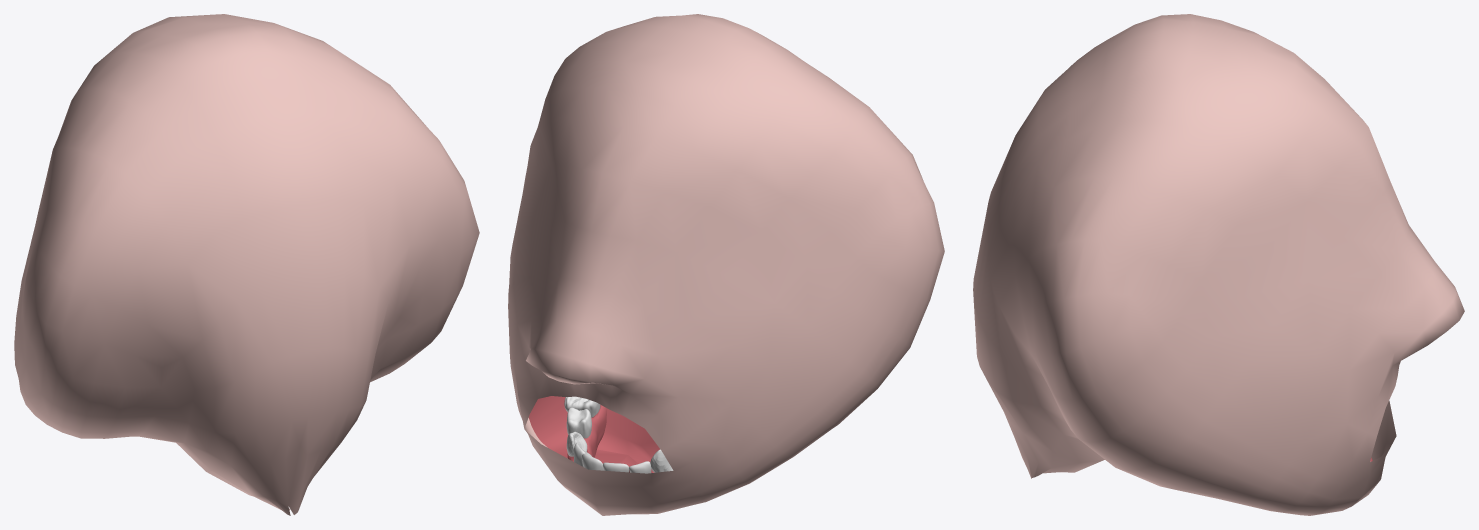
File: HeadFocus.fbx
The picture shows the model from 3 angles, left to right: view 1: azimuth 30°, elevation 25°; view 2: azimuth 150°, elevation 25°; view 3: azimuth 270°, elevation 25°; orthographic projection. The views are drawn at different scales.
Visible parts, largest first — view 1: Retopo_Head.002; view 2: Retopo_Head.002, Retopo_mouth.001, Retopo_Torus.002, Retopo_RB_PreMolar.001; view 3: Retopo_Head.002.
Part boxes in pixels (x1,y1,x2,y2): Retopo_Head.002: (14, 14, 479, 515); Retopo_Head.002: (508, 14, 944, 515); Retopo_mouth.001: (528, 396, 659, 472); Retopo_Torus.002: (567, 404, 654, 472); Retopo_RB_PreMolar.001: (566, 407, 591, 438); Retopo_Head.002: (973, 14, 1464, 515).
Bounding box in the file's own units: 36.53 × 37.1 × 35.76.
